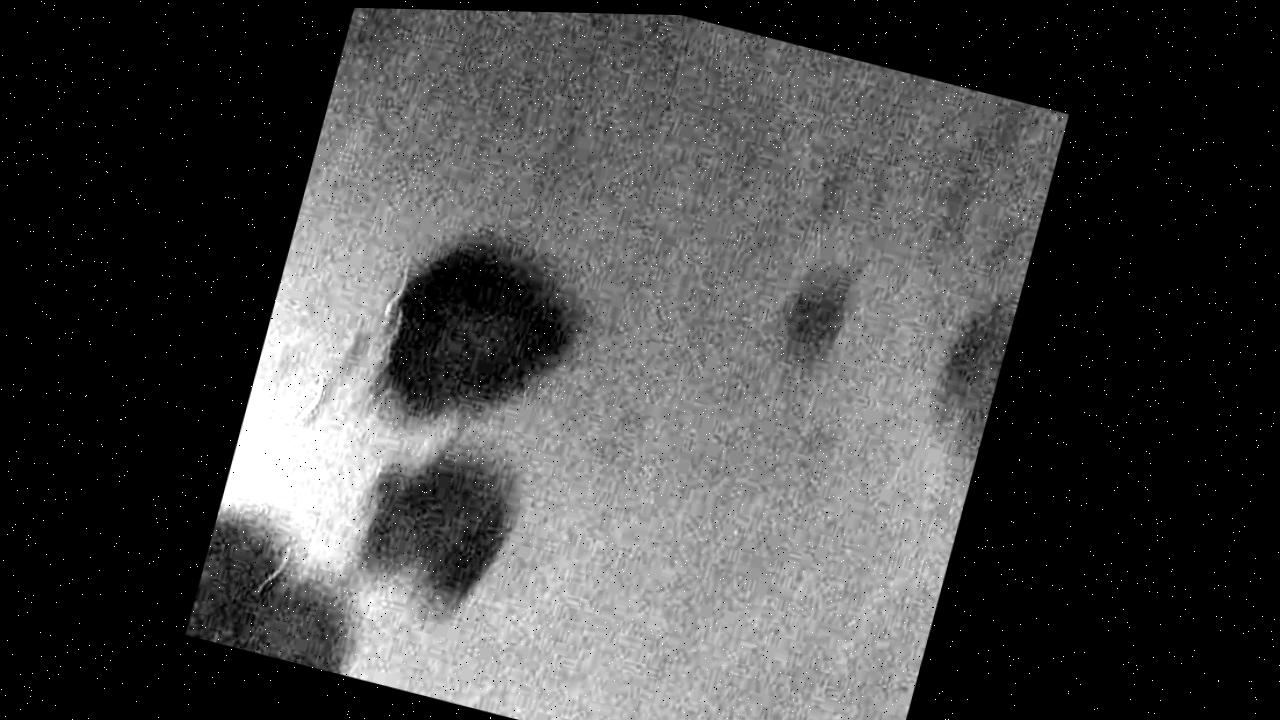drinks Stains: (187, 194, 634, 717), (899, 278, 1020, 473), (756, 226, 891, 378)
